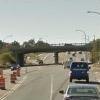Car: (61, 78, 100, 100)
